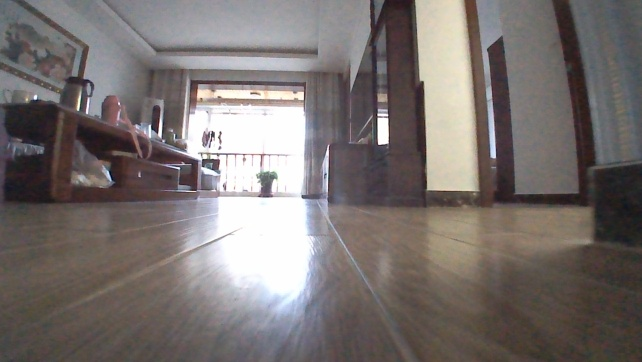tea_table: (0, 100, 203, 205)
